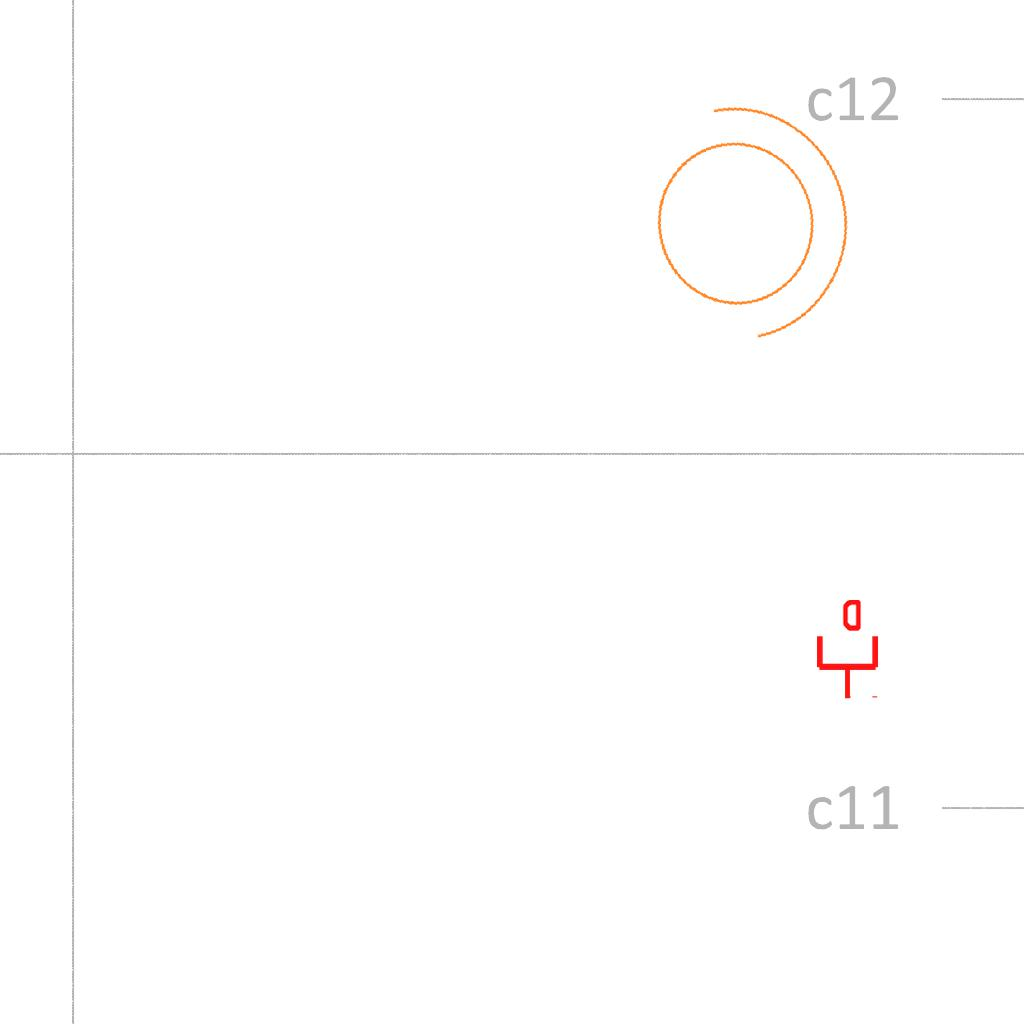Datenanschluss_einfach: (813, 600, 882, 700)
Scheinwerfer_fuer_Alarmbeleuchtung: (608, 64, 880, 367)
